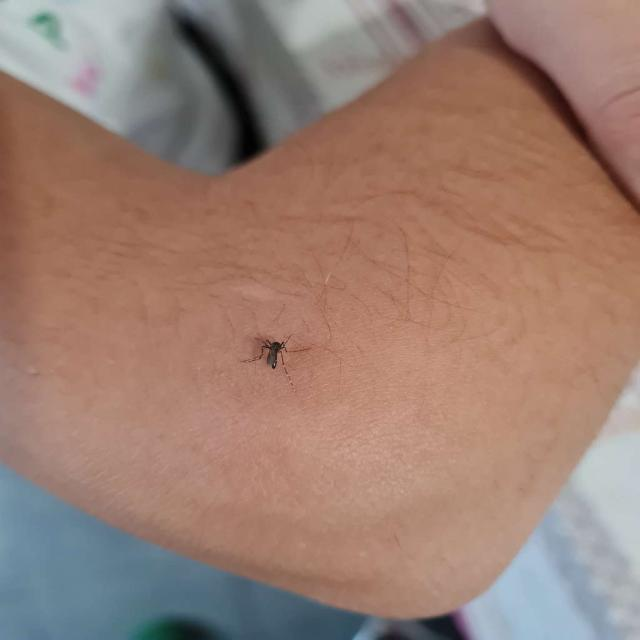albopictus: (234, 325, 314, 391)
